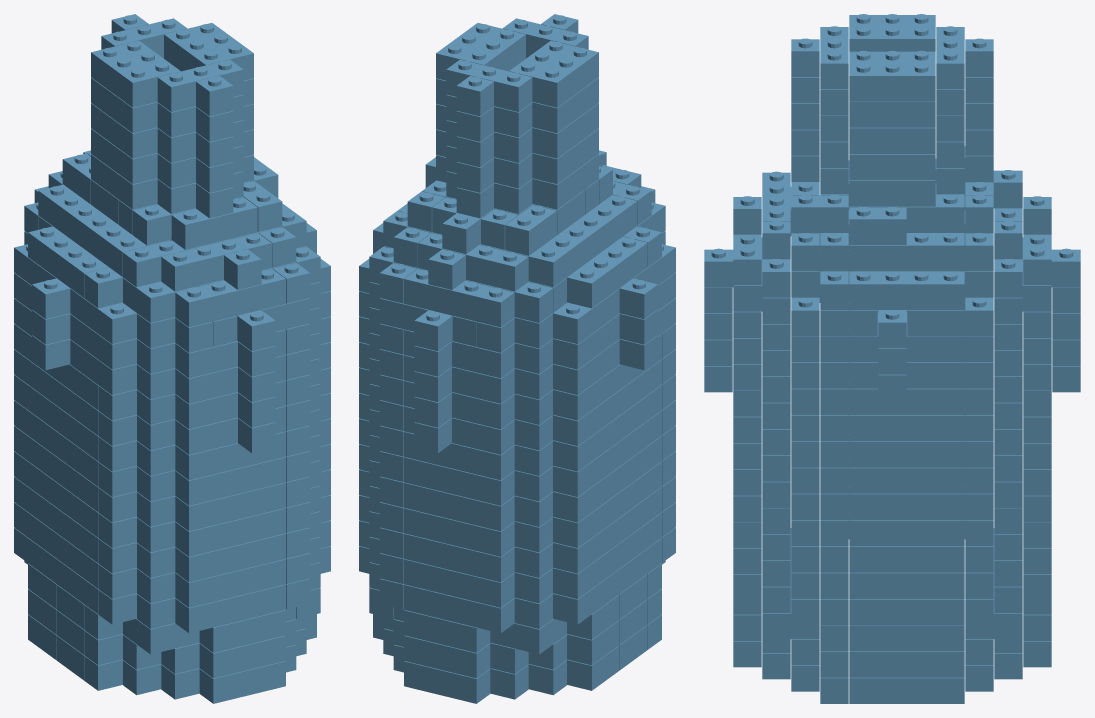
File: 093_bowl_L3.glb
3 views of the same model, side by side, from view 1: azimuth 30°, elevation 25°; view 2: azimuth 150°, elevation 25°; view 3: azimuth 270°, elevation 25° (orthographic). The views are drawn at different scales.
Size of the model in its own units: 10.98 by 23.13 by 12.98.
